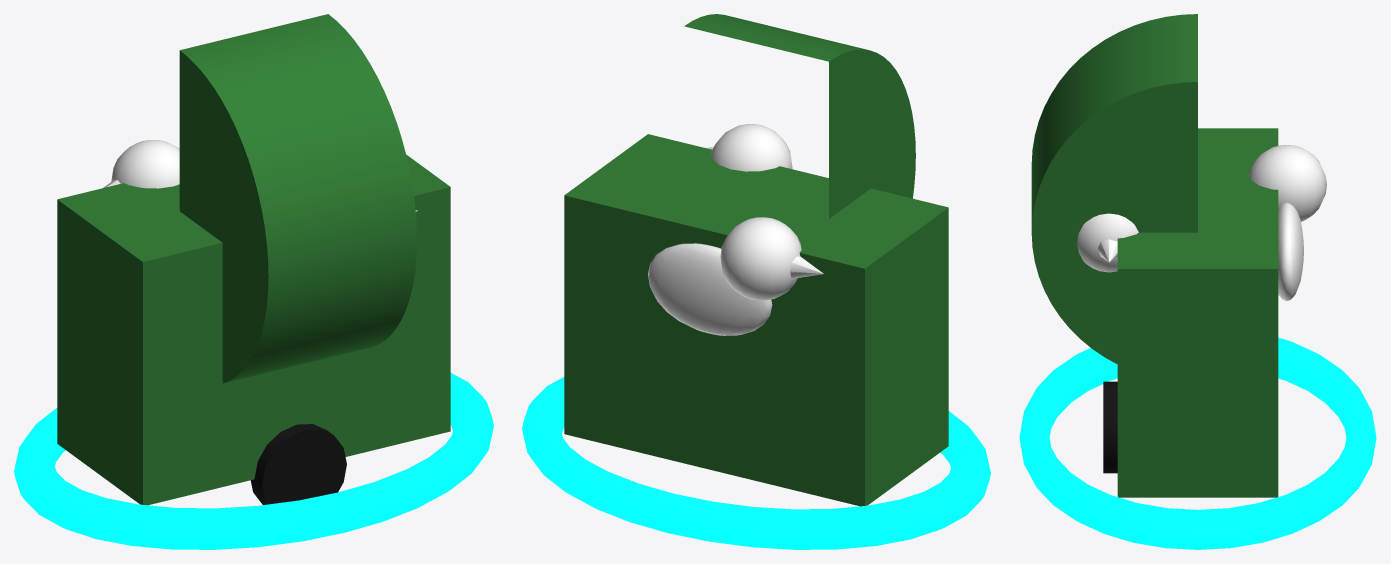
File: bird_token.glb
3 views of the same model, side by side, from view 1: azimuth 30°, elevation 25°; view 2: azimuth 150°, elevation 25°; view 3: azimuth 270°, elevation 25° (orthographic). The views are drawn at different scales.
Parts seen in each view (by area): view 1: bird_token, selection_glow; view 2: bird_token, selection_glow; view 3: bird_token, selection_glow.
Part boxes in pixels (bbox=[...]): bird_token: bbox=[57, 14, 450, 505]; selection_glow: bbox=[14, 373, 493, 549]; bird_token: bbox=[564, 14, 948, 506]; selection_glow: bbox=[522, 377, 990, 549]; bird_token: bbox=[1031, 14, 1326, 497]; selection_glow: bbox=[1019, 337, 1376, 549].
Size of the model in its own units: 0.83 by 0.81 by 0.6225.
